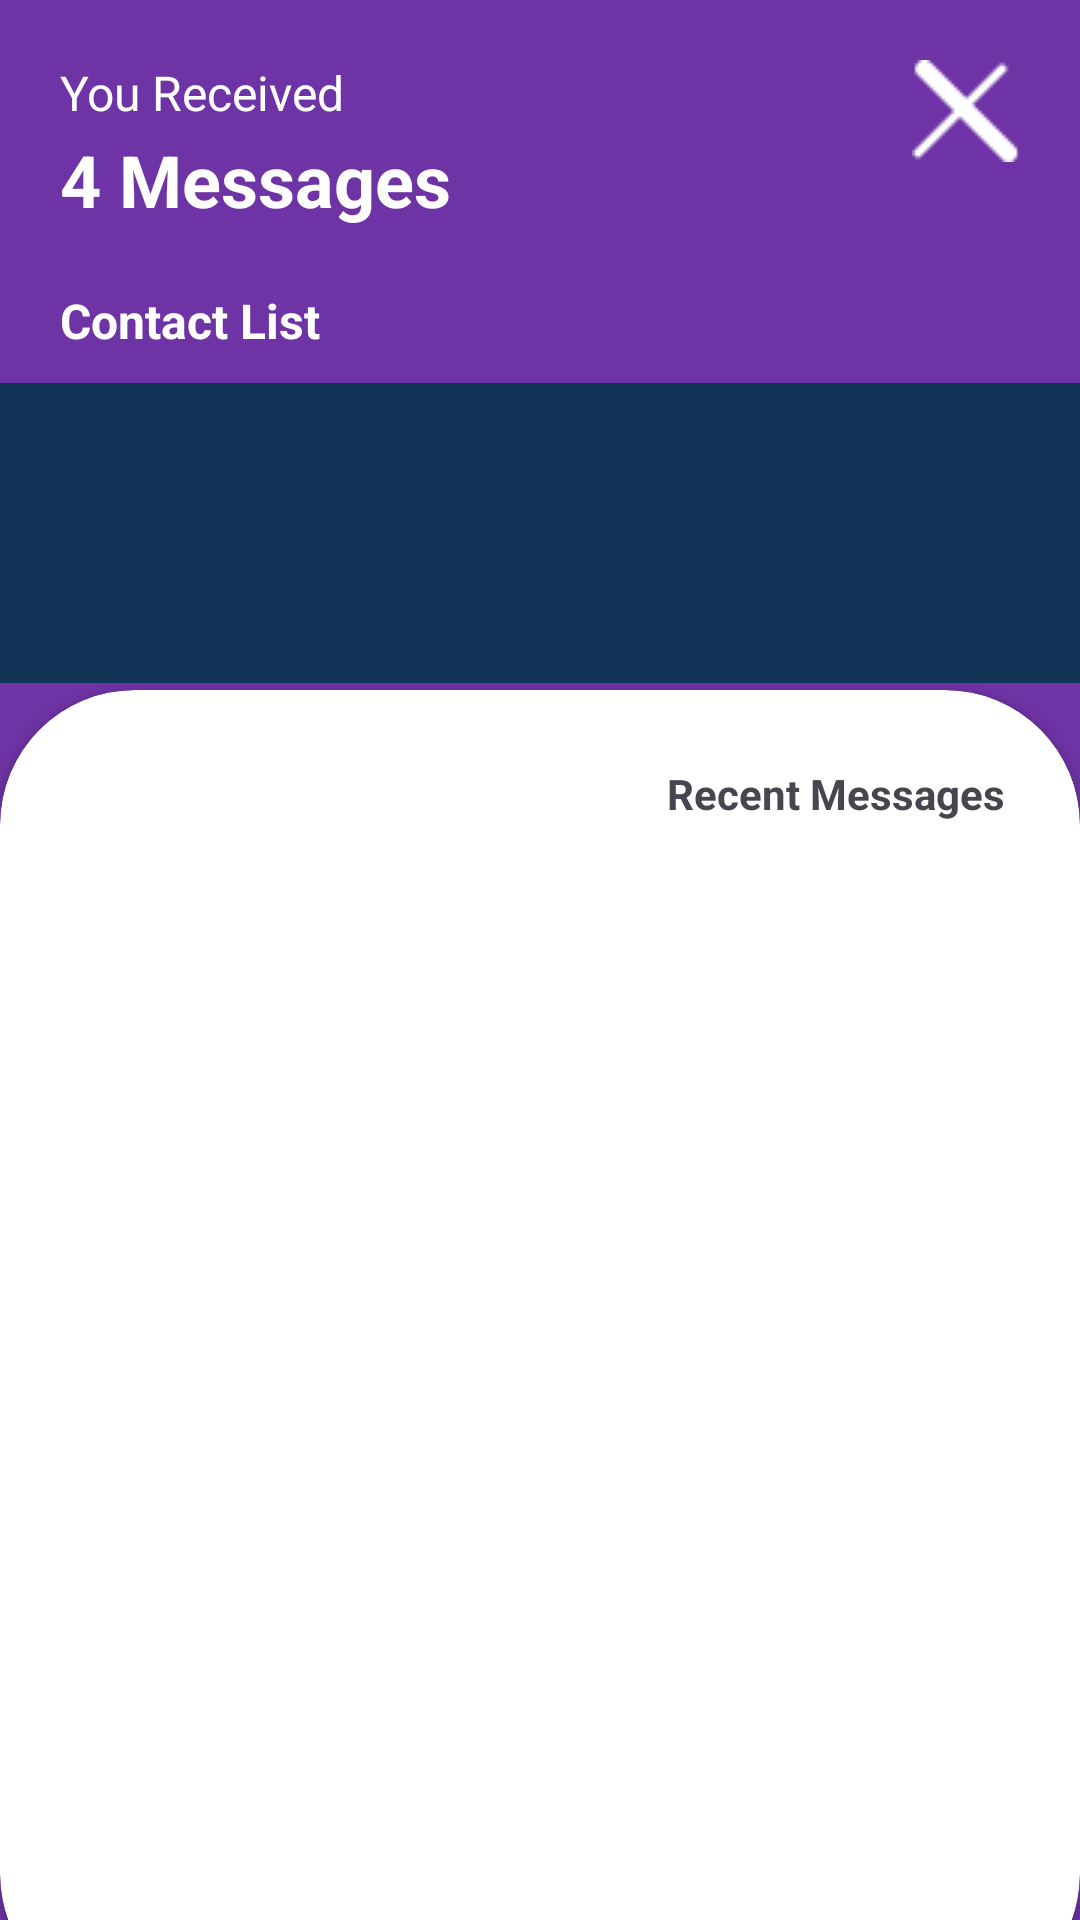

Icon click points for this 1080×1920 phone screenshot, format point (x, y):
closing: point (965, 111)
